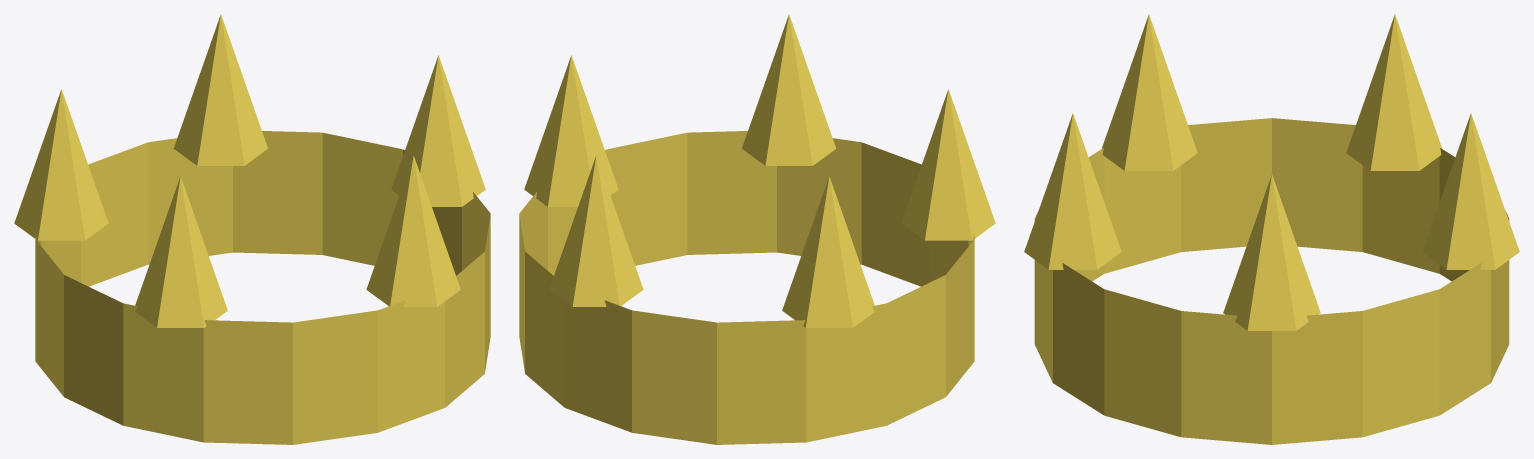
The model's file is hat_crown.glb.
The picture shows the model from 3 angles, left to right: view 1: azimuth 30°, elevation 25°; view 2: azimuth 150°, elevation 25°; view 3: azimuth 270°, elevation 25°; orthographic projection. The views are drawn at different scales.
Parts seen in each view (by area): view 1: hat_crown; view 2: hat_crown; view 3: hat_crown.
Part boxes in pixels (x1=…): hat_crown: x1=14, y1=14, x2=490, y2=444; hat_crown: x1=519, y1=14, x2=995, y2=444; hat_crown: x1=1024, y1=14, x2=1519, y2=444.
Bounding box in the file's own units: 0.3153 × 0.1845 × 0.3198.
